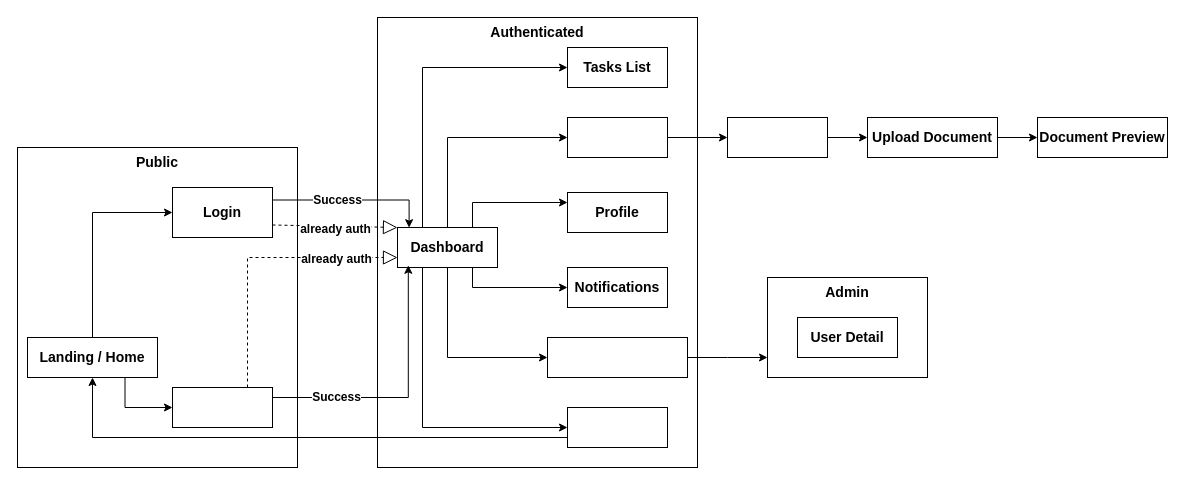
Some shapes in this 1185 by 485 pixel diagram are drawn without their labels. Here are the shapes that lost their labels. From the top down, the centre of each, then its label:
At (x=617, y=137): "Create Task".
At (x=777, y=137): "Task Details".
At (x=617, y=357): "User Management".
At (x=222, y=407): "Register".
At (x=617, y=427): "Logout".
